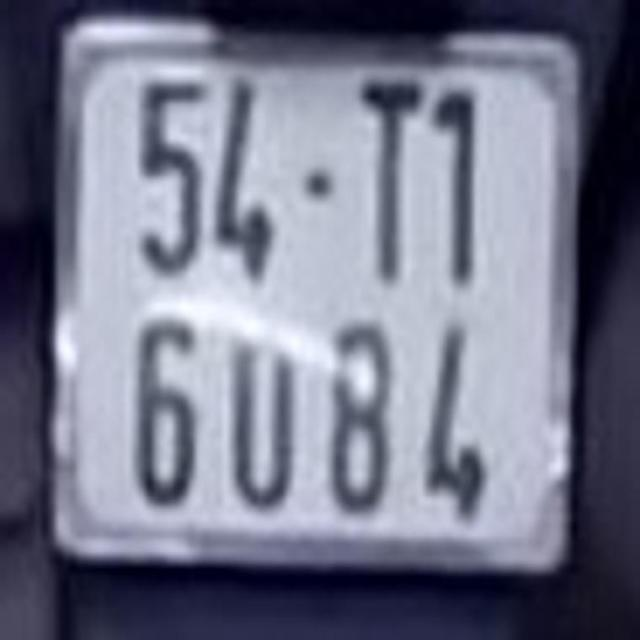0: (228, 308, 298, 510)
1: (432, 85, 481, 286)
4: (214, 75, 277, 284), (424, 321, 488, 524)
5: (135, 76, 205, 276)
6: (132, 311, 202, 507)
8: (328, 317, 392, 514)
T: (358, 79, 423, 283)
